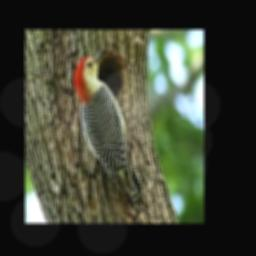Woodpecker: (74, 48, 150, 218)
